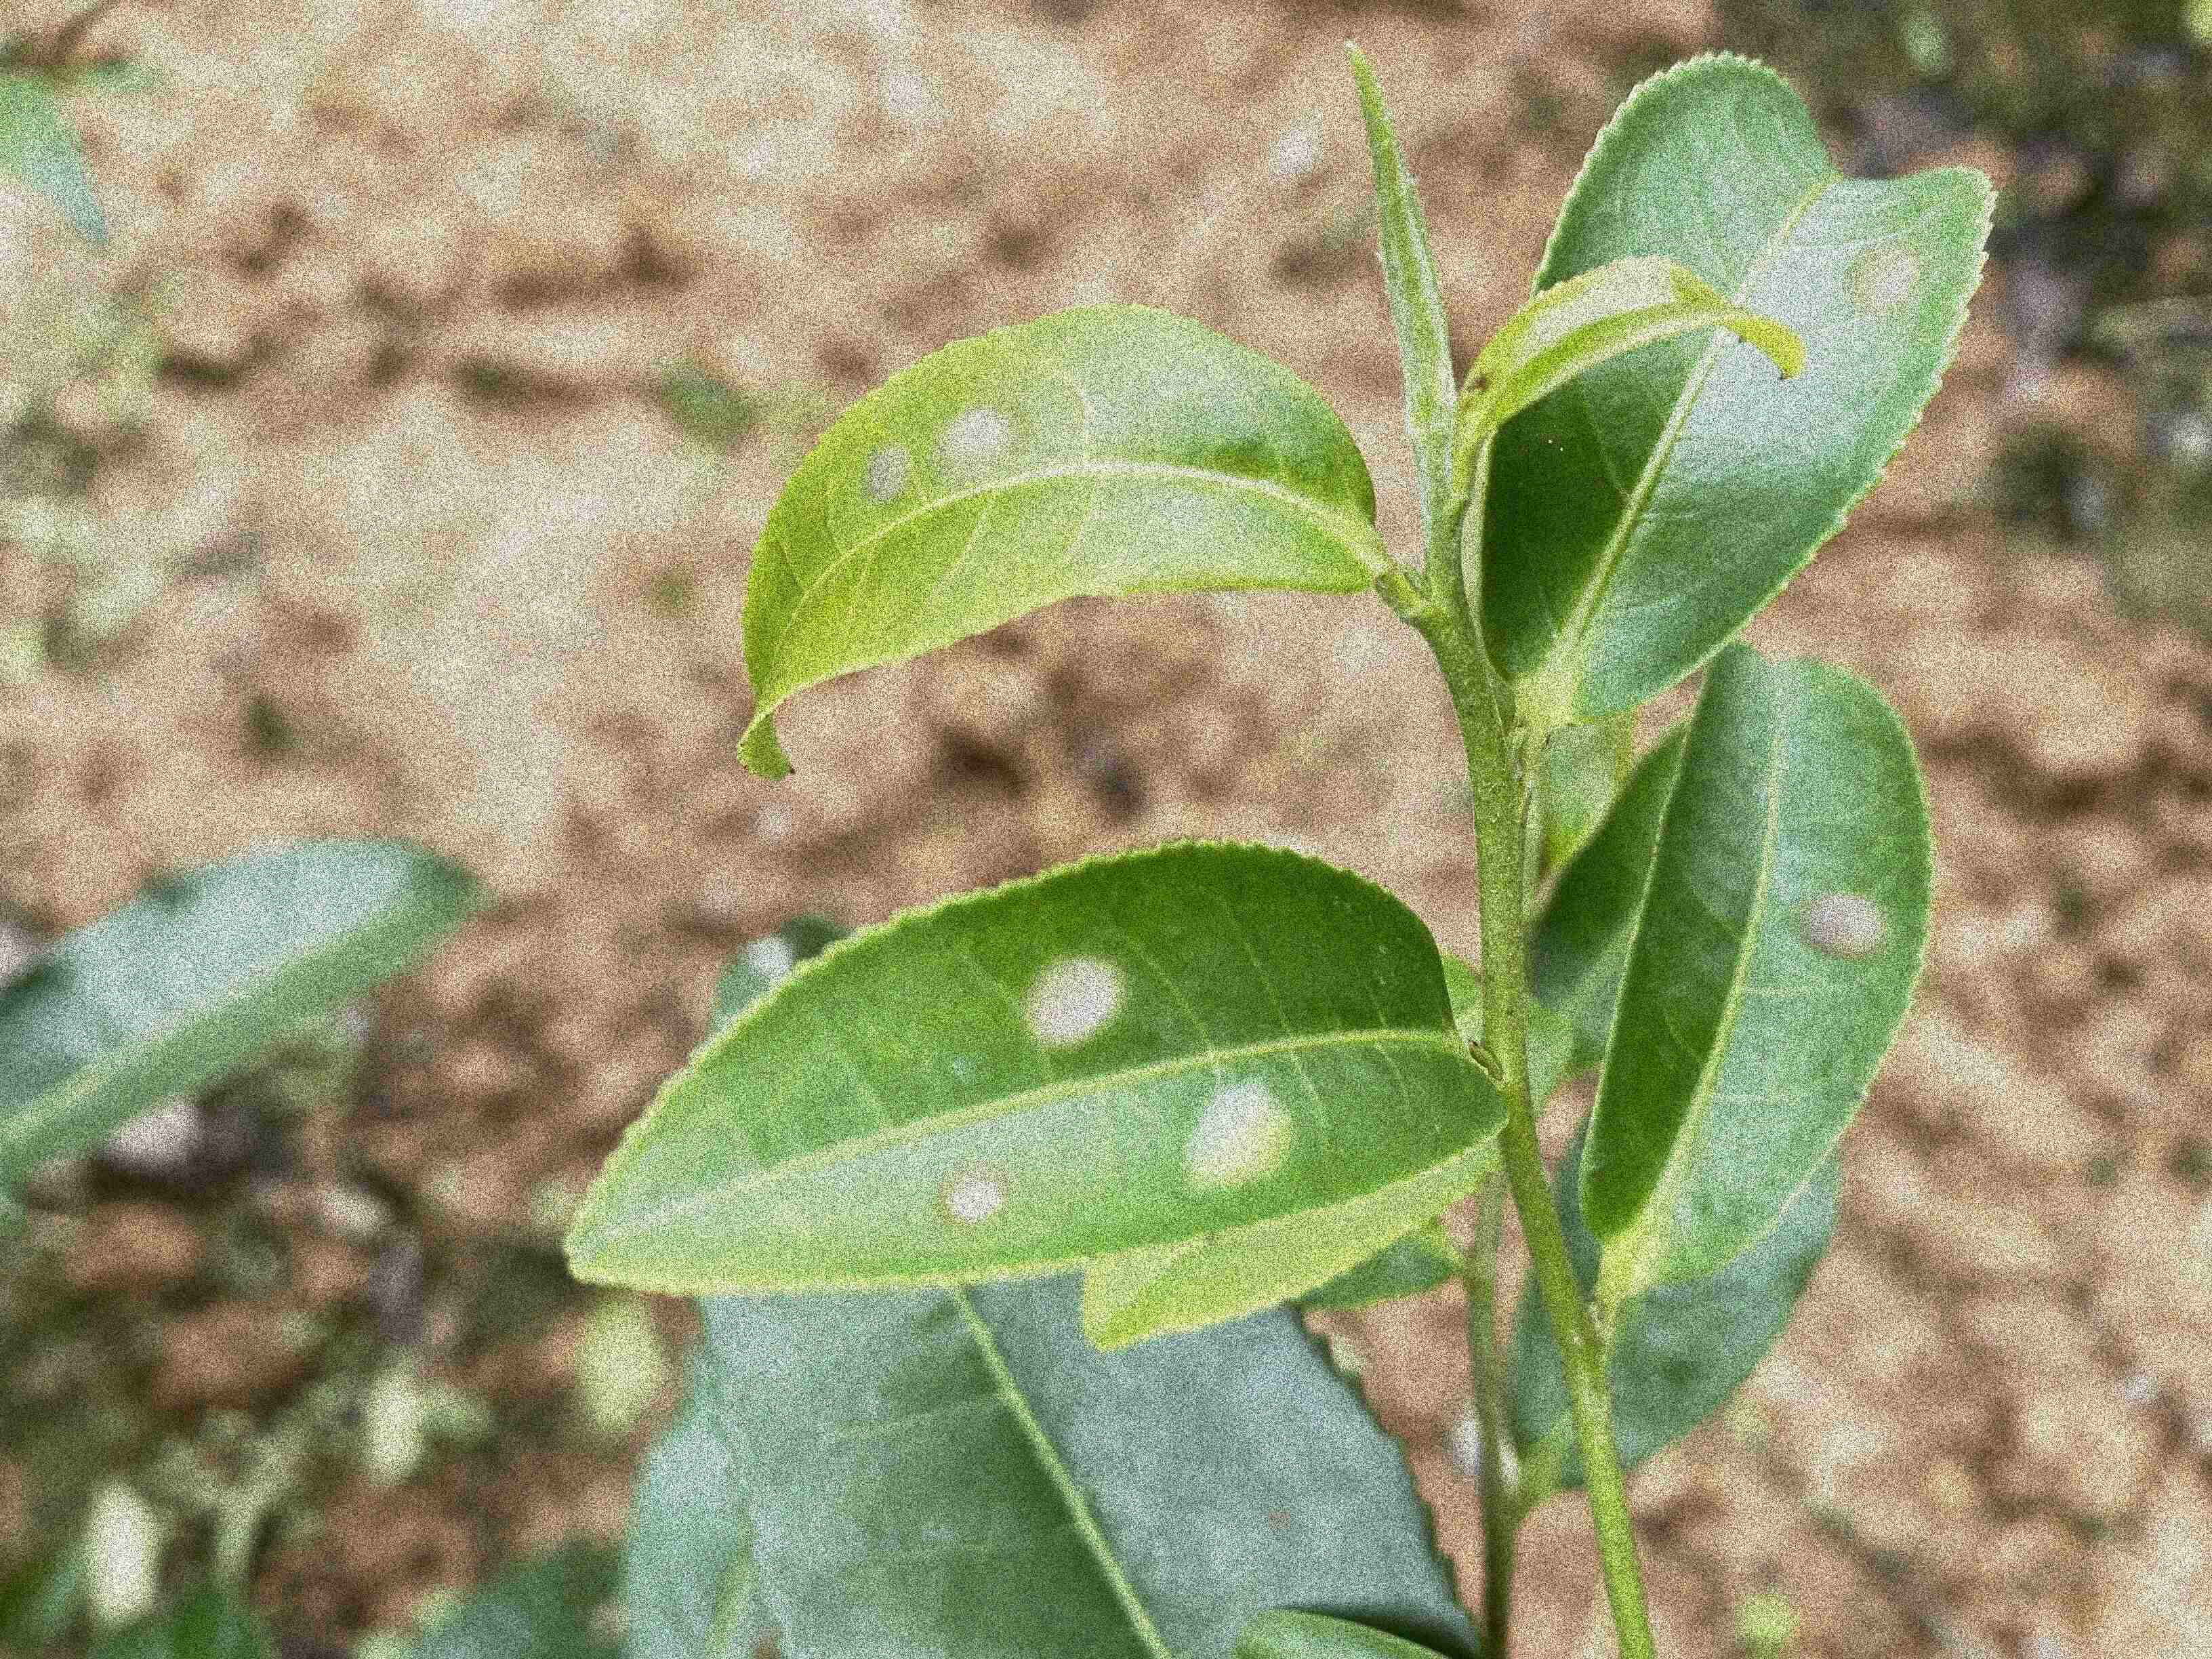chabing_high: (559, 838, 1514, 1293), (733, 305, 1378, 777)
chabing_low: (1480, 52, 1998, 727), (1580, 638, 1933, 1277)
tanju_low: (1456, 254, 1808, 444)
